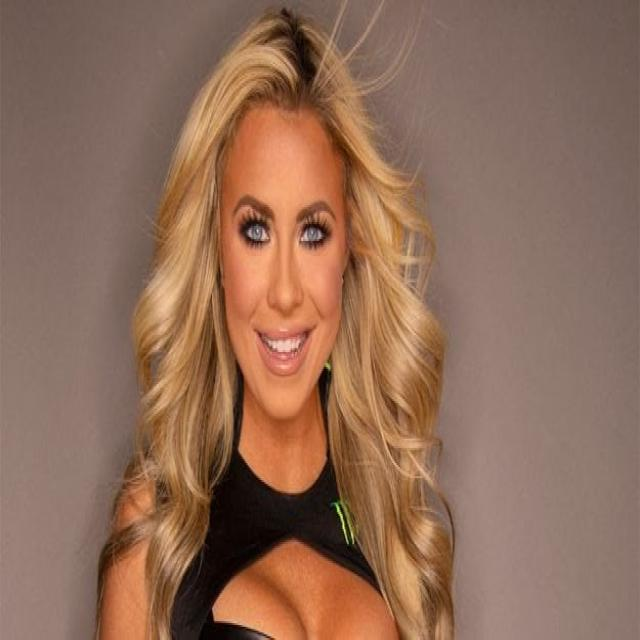human: (84, 15, 460, 640)
